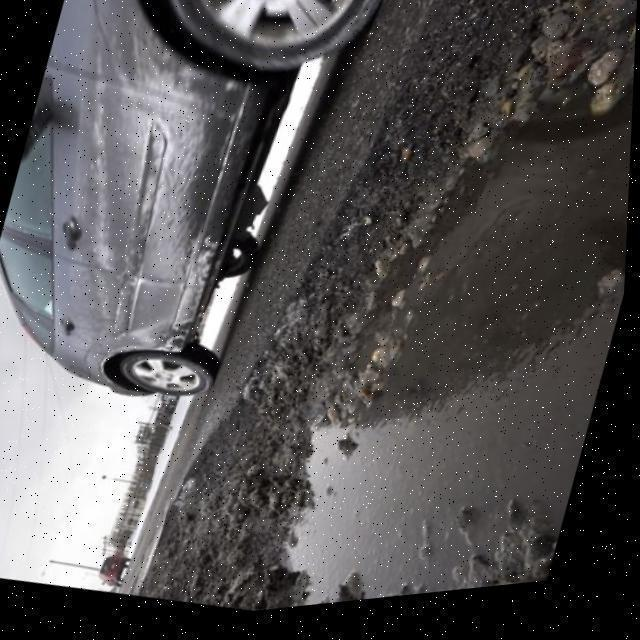Pothole: (144, 0, 638, 616)
